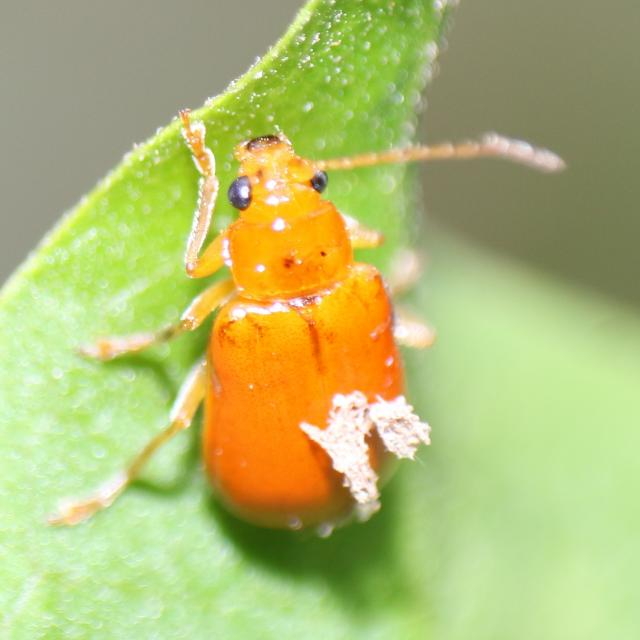Pumpkin Beetle: (41, 108, 573, 541)
